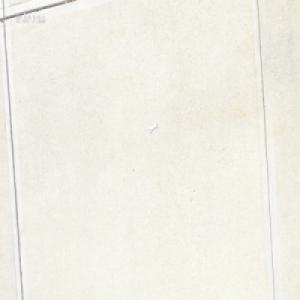Wrench: (148, 122, 157, 133)
